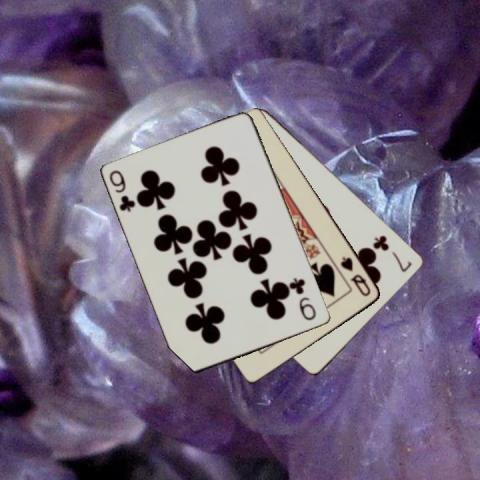7c: (371, 232, 414, 273)
9c: (106, 167, 137, 214), (289, 275, 318, 322)
Qs: (338, 253, 373, 298)
